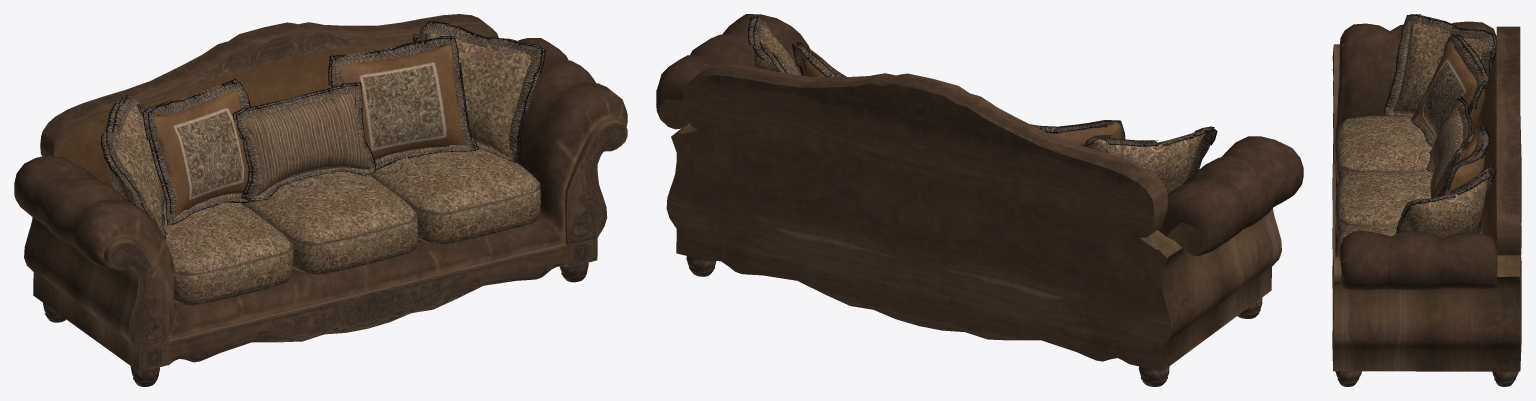
The model's file is sofa_03_1k.gltf.
3 renders of one model, left to right at view 1: azimuth 30°, elevation 25°; view 2: azimuth 150°, elevation 25°; view 3: azimuth 270°, elevation 25°, orthographic. The views are drawn at different scales.
Visible parts, largest first — view 1: sofa_03; view 2: sofa_03; view 3: sofa_03.
Boxes of the visible parts, x1=… form: sofa_03: x1=14, y1=14, x2=627, y2=386; sofa_03: x1=656, y1=14, x2=1303, y2=386; sofa_03: x1=1332, y1=14, x2=1521, y2=386.
Size of the model in its own units: 2.73 by 1.12 by 0.9251.
Materials: 2 (2 with a texture image).
